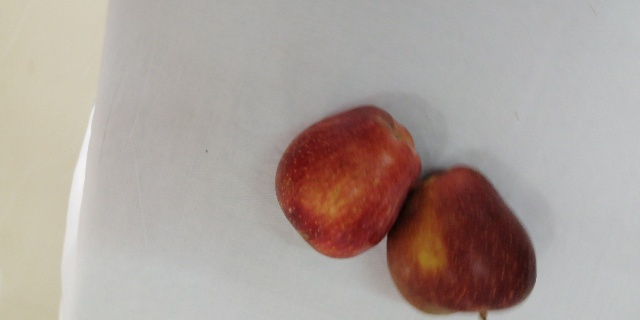apple_kashmir: (275, 101, 423, 260), (387, 166, 536, 320)
